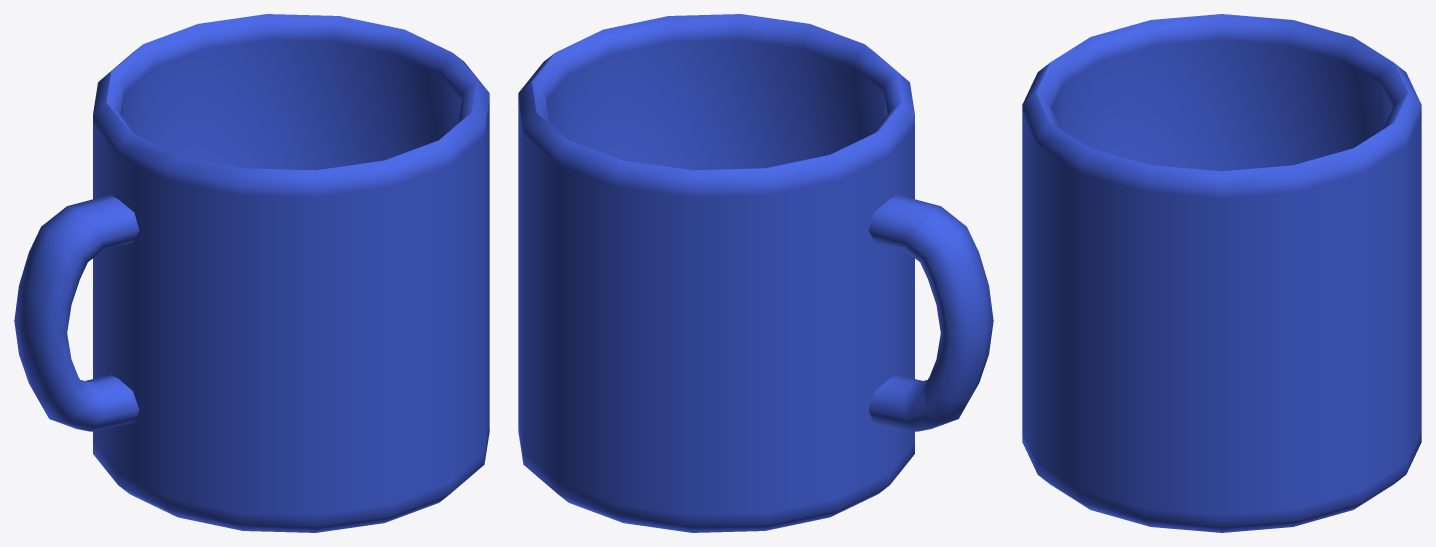
Rendered from muki.fbx.
3 renders of one model, left to right at view 1: azimuth 30°, elevation 25°; view 2: azimuth 150°, elevation 25°; view 3: azimuth 270°, elevation 25°, orthographic.
Visible parts, largest first — view 1: muki; view 2: muki; view 3: muki.
Part boxes in pixels (<box>): muki: <box>14,14,489,532</box>; muki: <box>518,14,993,532</box>; muki: <box>1022,14,1421,532</box>.
Bounding box in the file's own units: 20.17 × 15.79 × 15.79.
